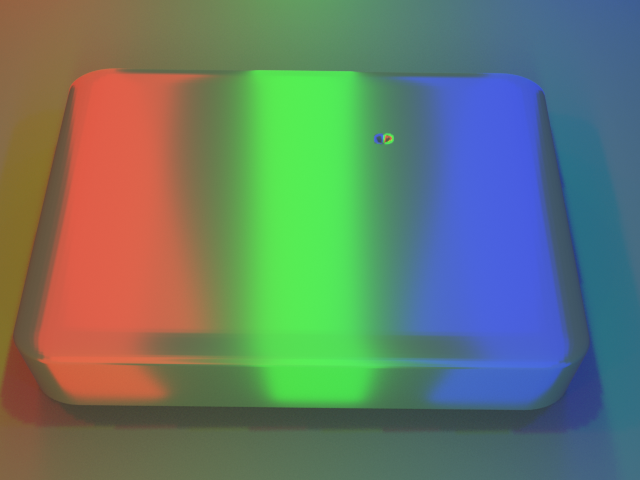dent: (368, 112, 410, 154)
